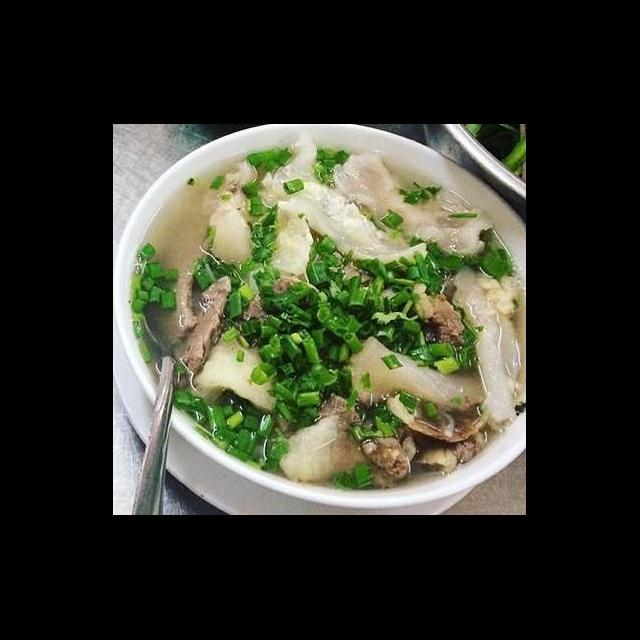thit bo: (274, 386, 366, 486), (150, 228, 212, 350), (170, 268, 234, 378), (406, 270, 476, 364), (360, 398, 428, 490)
